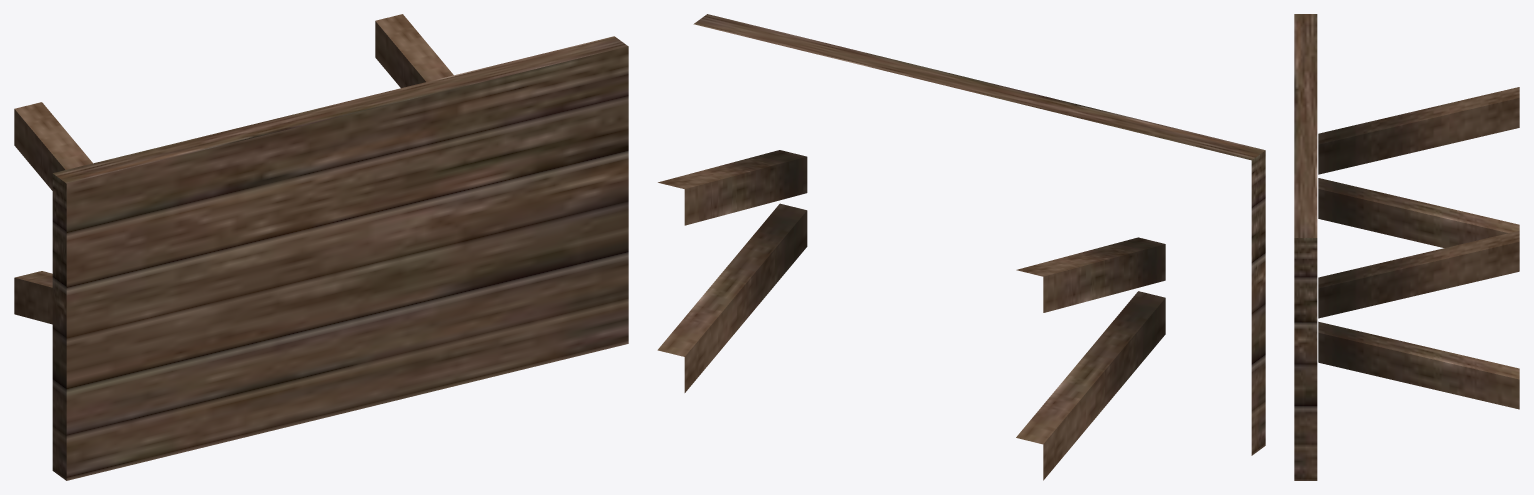
3 views of the same model, side by side, from view 1: azimuth 30°, elevation 25°; view 2: azimuth 150°, elevation 25°; view 3: azimuth 270°, elevation 25° (orthographic). The views are drawn at different scales.
Visible parts, largest first — view 1: model_Object42; view 2: model_Object42; view 3: model_Object42.
Part boxes in pixels (x1,y1,x2,y2): model_Object42: (14, 14, 628, 480); model_Object42: (657, 14, 1265, 480); model_Object42: (1294, 14, 1519, 480).
Bounding box in the file's own units: 2.03 × 1.03 × 0.8658.
Materials: 1 (1 with a texture image).
